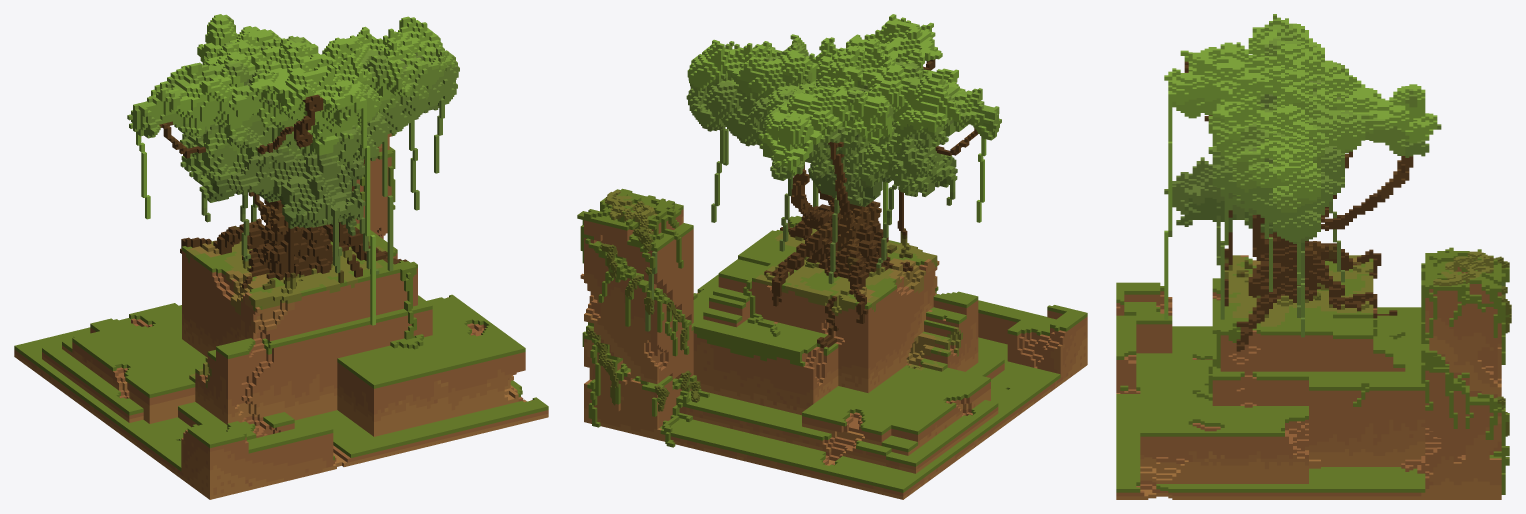
Rendered from voxel_free-734287.glb.
3 views of the same model, side by side, from view 1: azimuth 30°, elevation 25°; view 2: azimuth 150°, elevation 25°; view 3: azimuth 270°, elevation 25° (orthographic). The views are drawn at different scales.
Visible parts, largest first — view 1: ObjObject; view 2: ObjObject; view 3: ObjObject.
Boxes of the visible parts, x1=… form: ObjObject: x1=14, y1=14, x2=548, y2=499; ObjObject: x1=577, y1=14, x2=1087, y2=499; ObjObject: x1=1116, y1=14, x2=1511, y2=499.
Bounding box in the file's own units: 8.24 × 8.24 × 8.28.
Materials: 1 (1 with a texture image).
